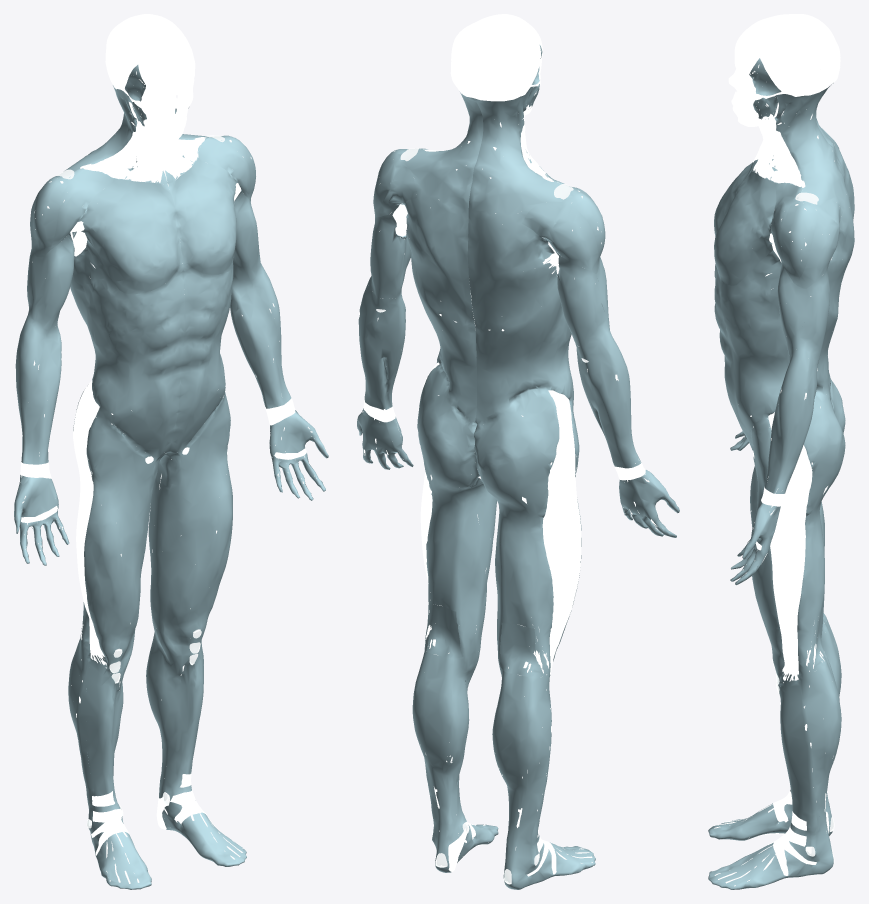
File: muscular.lod.glb
The picture shows the model from 3 angles, left to right: view 1: azimuth 30°, elevation 25°; view 2: azimuth 150°, elevation 25°; view 3: azimuth 270°, elevation 25°; orthographic projection. The views are drawn at different scales.
Parts seen in each view (by area): view 1: Investing abdominal fascia.r, Fascia lata.l, Fascia lata.r, Crural fascia.l, Crural fascia.r, Pectoral fascia.r, Investing abdominal fascia.l, Pectoral fascia.l, Antebrachial fascia.r, Antebrachial fascia.l, Deltoid fascia.r, Brachial fascia.r (+13 smaller); view 2: Investing abdominal fascia.r, Fascia lata.r, Fascia lata.l, Crural fascia.r, Investing abdominal fascia.l, Crural fascia.l, Superficial investing cervical fascia.r, Iliotibial tract.r, Antebrachial fascia.r, Antebrachial fascia.l, Deltoid fascia.r, Superficial investing cervical fascia.l (+11 smaller); view 3: Investing abdominal fascia.l, Crural fascia.l, Fascia lata.l, Iliotibial tract.l, Deltoid fascia.l, Pectoral fascia.l, Superficial investing cervical fascia.l, Antebrachial fascia.l, Brachial fascia.l, Epicranial aponeurosis.l, Crural fascia.r, Temporoparietalis muscle.l (+13 smaller).
Part boxes in pixels (x1,y1,x2,y2): Investing abdominal fascia.r: (70,239,184,457); Fascia lata.l: (148,392,232,638); Fascia lata.r: (73,391,165,658); Crural fascia.l: (146,622,246,866); Crural fascia.r: (68,639,151,889); Pectoral fascia.r: (78,178,182,294); Investing abdominal fascia.l: (167,263,233,452); Pectoral fascia.l: (167,158,237,274); Antebrachial fascia.r: (15,315,61,464); Antebrachial fascia.l: (230,263,291,408); Deltoid fascia.r: (30,169,113,257); Brachial fascia.r: (27,232,74,329); Investing abdominal fascia.r: (467,207,573,426); Fascia lata.r: (474,389,581,677); Fascia lata.l: (417,364,496,657); Crural fascia.r: (492,666,595,889); Investing abdominal fascia.l: (401,177,476,425); Crural fascia.l: (412,647,498,872); Superficial investing cervical fascia.r: (468,86,570,216); Iliotibial tract.r: (542,390,581,677); Antebrachial fascia.r: (575,330,641,468); Antebrachial fascia.l: (358,276,405,409); Deltoid fascia.r: (521,173,605,273); Superficial investing cervical fascia.l: (399,92,483,208); Investing abdominal fascia.l: (714,195,854,448); Crural fascia.l: (708,657,841,889); Fascia lata.l: (751,389,845,674); Iliotibial tract.l: (768,412,812,682); Deltoid fascia.l: (771,183,843,288); Pectoral fascia.l: (714,171,776,285); Superficial investing cervical fascia.l: (752,83,848,205); Antebrachial fascia.l: (764,348,820,493); Brachial fascia.l: (777,261,829,357); Epicranial aponeurosis.l: (738,18,840,78); Crural fascia.r: (708,618,841,840); Temporoparietalis muscle.l: (759,46,821,96).
Size of the model in its own units: 0.6707 by 1.7 by 0.2685.
